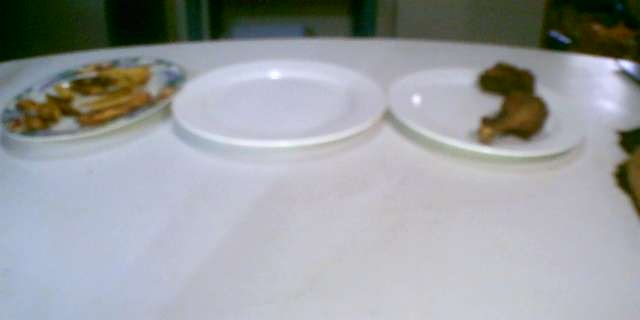chicken: (472, 93, 551, 146), (474, 55, 540, 99)
empty_plate: (167, 53, 387, 154)
potatoe_fries: (12, 58, 163, 134)
